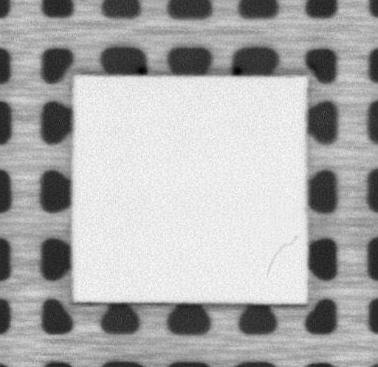DIE_CRACK: (265, 234, 299, 279)
